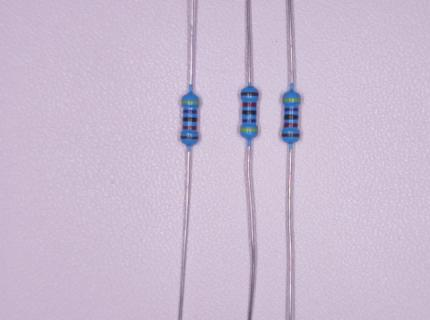Black band: (284, 115, 299, 120), (242, 110, 256, 115), (183, 117, 197, 122)
Brown band: (281, 133, 300, 137), (240, 92, 258, 96), (180, 136, 199, 139)
Red band: (283, 123, 298, 128), (242, 103, 256, 107), (183, 126, 197, 130)
Violet band: (183, 109, 197, 114), (285, 108, 299, 112), (242, 119, 256, 122)
Yellow band: (239, 128, 258, 132), (181, 100, 200, 104), (283, 98, 301, 102)
